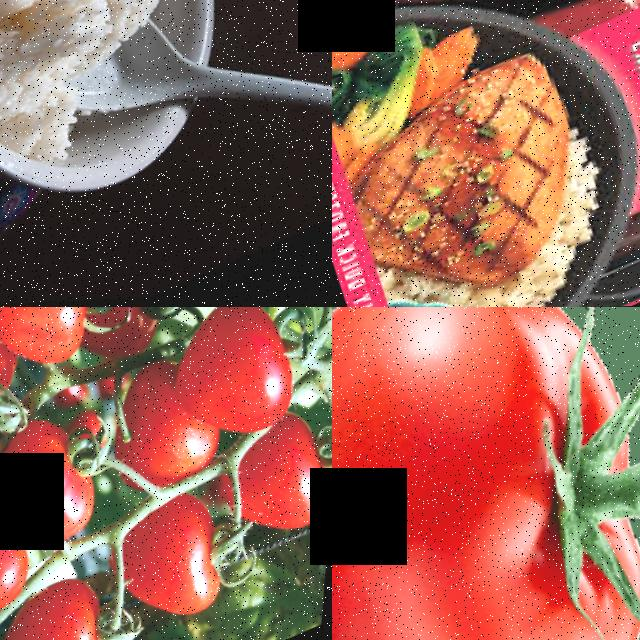tomato: (332, 307, 640, 640), (0, 307, 120, 392)
white rice: (0, 0, 205, 123)
